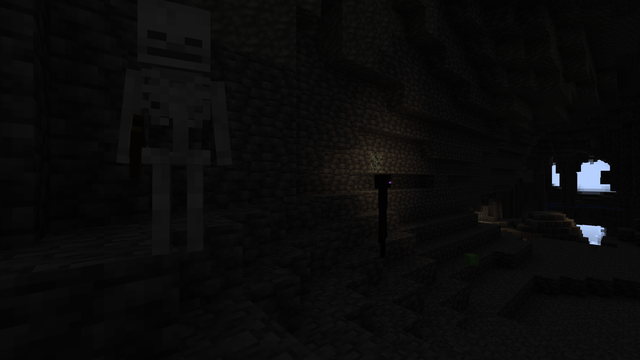endermens: (370, 171, 394, 257)
slimes: (464, 252, 477, 265)
squelettes: (133, 4, 225, 267)
